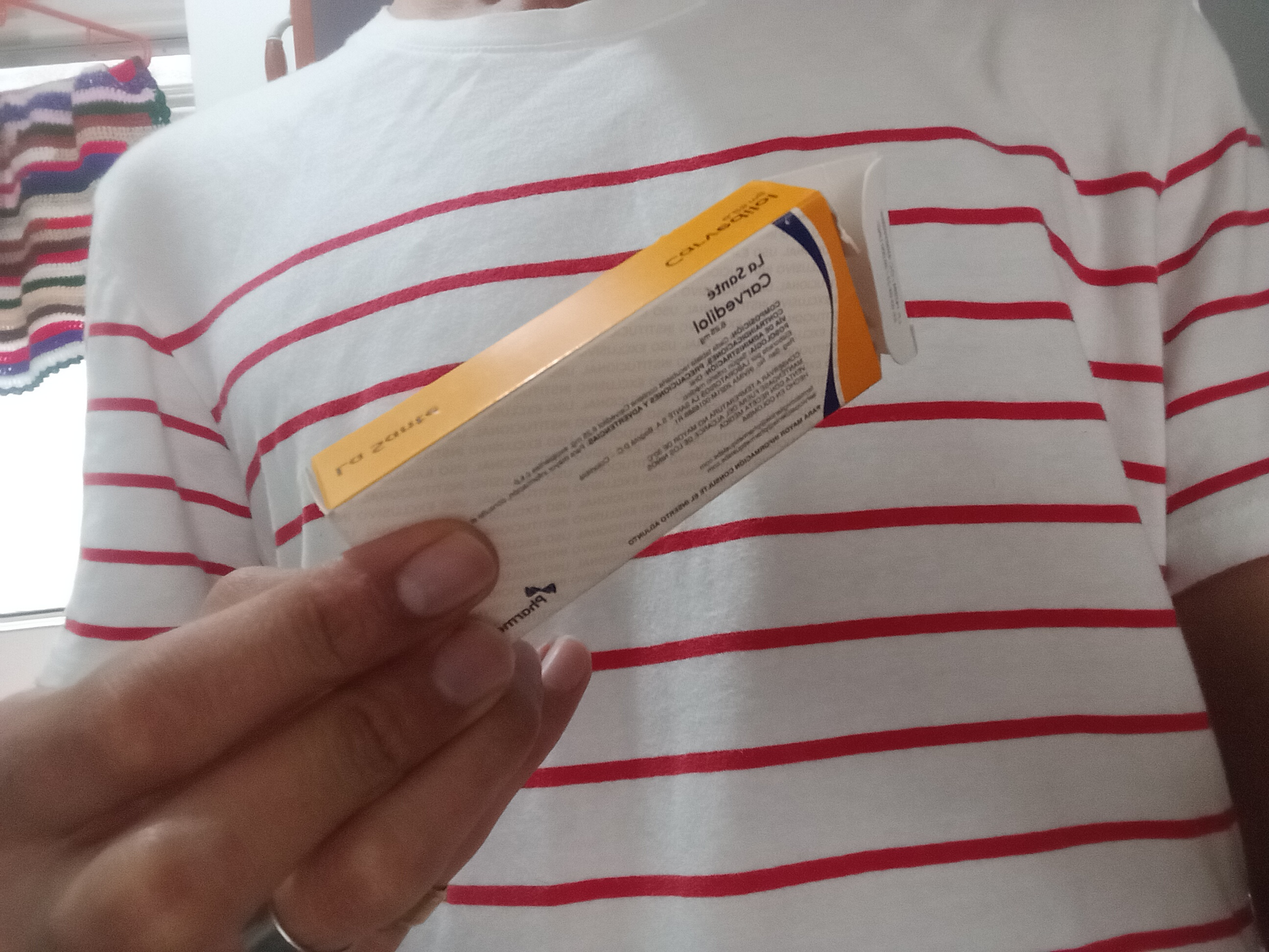Carton: (301, 179, 883, 652)
